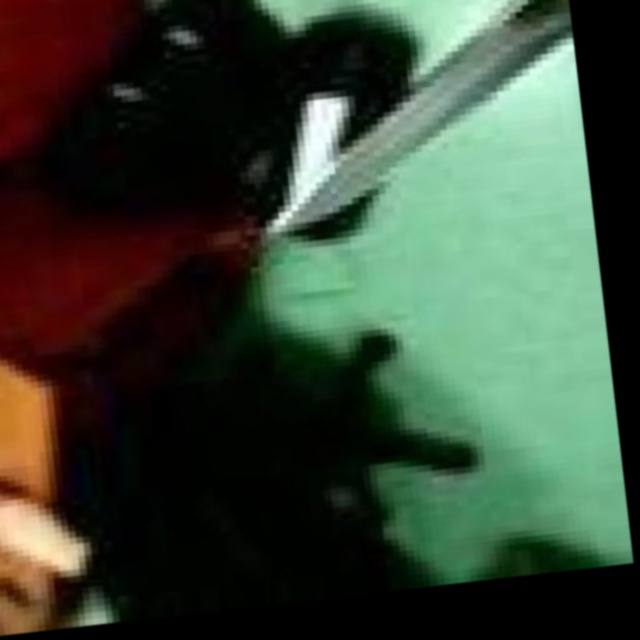Sharp-Object: (248, 0, 583, 228)
